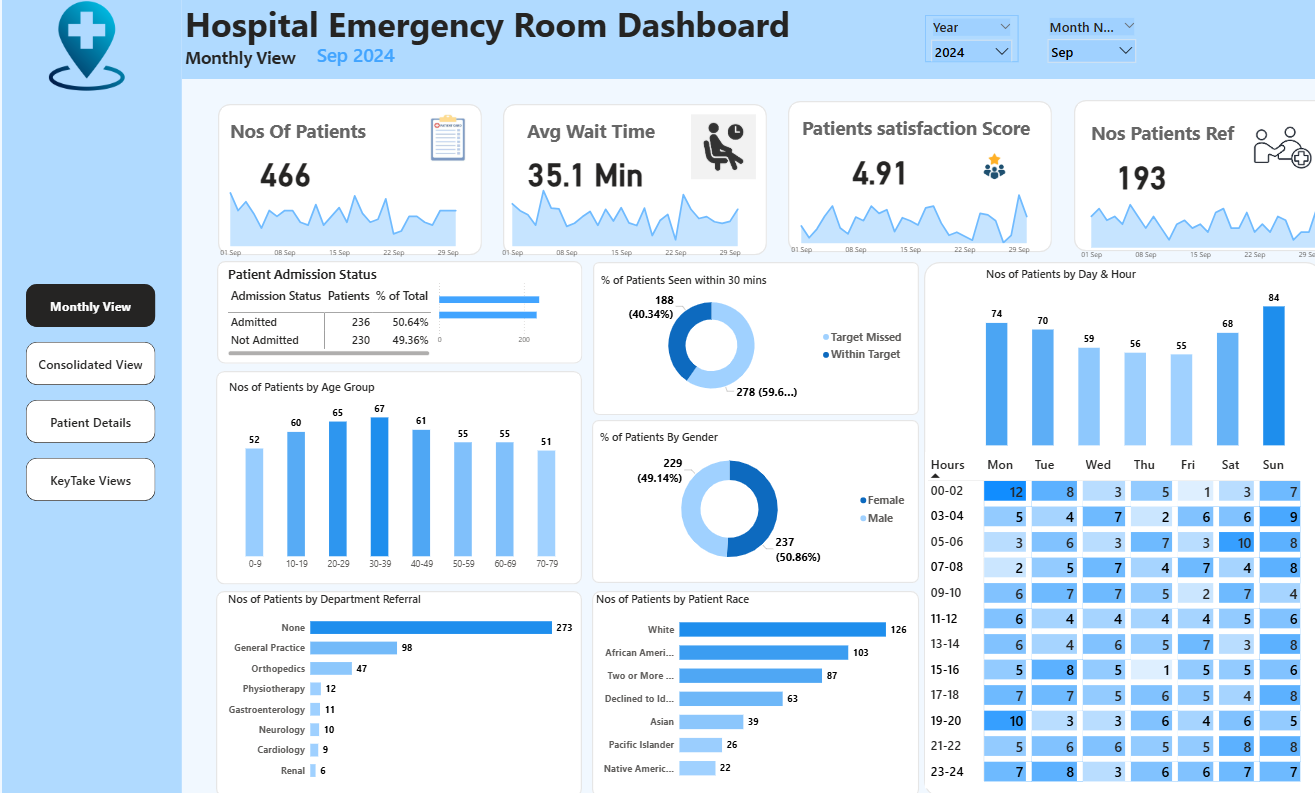

Layout of this report page (visuals, bound fields, positions):
{"tool":"powerbi","page":{"name":"Monthly View","canvas":[2300,1400],"ordinal":0},"visuals":[{"type":"shape","box":[10.8,0,310,1400.1],"z":0},{"type":"shape","box":[320.7,0,1979.3,139.7],"z":1000},{"type":"textbox","box":[320.6,0,1063.1,210.1],"z":2000},{"type":"slicer","fields":{"Values":["Date Table.Year"]},"box":[1600.9,29.4,161.2,81.5],"z":3000},{"type":"slicer","fields":{"Values":["Date Table.Month Name"]},"box":[1803.8,28.5,172,83.3],"z":4000},{"type":"card","fields":{"Values":["Min(Date Table.Month & Year)"]},"box":[438.3,56.1,364,83.3],"z":5000},{"type":"shape","box":[383.1,182,455,260.8],"z":6000},{"type":"card","fields":{"Values":["Measure Table.Nos of Patients"]},"box":[425.7,251.8,146.7,92.4],"z":7000},{"type":"textbox","box":[398.5,201.1,255.4,56.1],"z":8000},{"type":"areaChart","fields":{"Category":["Date Table.Date.Variation.Date Hierarchy.Day"],"Y":["Measure Table.Nos of Patients"]},"box":[380.4,311.6,434.6,144.9],"z":9000},{"type":"shape","box":[874.7,182,455,260.8],"z":10000},{"type":"card","fields":{"Values":["Measure Table.Avg Wait Time"]},"box":[910.9,251.7,211.9,92.4],"z":11000},{"type":"textbox","box":[911,201.1,255.4,56.1],"z":12000},{"type":"areaChart","fields":{"Category":["Date Table.Date.Variation.Date Hierarchy.Day"],"Y":["Avg(Hospital ER_Data.Patient Waittime)"]},"box":[867.5,311.5,434.6,144.9],"z":13000},{"type":"shape","box":[1366.4,178.4,455,260.8],"z":14000},{"type":"card","fields":{"Values":["Measure Table.Patient Satisfaction Score"]},"box":[1452.5,248.2,146.7,92.4],"z":15000},{"type":"textbox","box":[1384.5,196.6,415.5,56.9],"z":16000},{"type":"areaChart","fields":{"Category":["Date Table.Date.Variation.Date Hierarchy.Day"],"Y":["Avg(Hospital ER_Data.Patient Satisfaction Score)"]},"box":[1365.5,306.1,434.6,144.9],"z":17000},{"type":"shape","box":[1858,175.7,442,260.8],"z":18000},{"type":"textbox","box":[1883.5,204.6,300.6,56.1],"z":19000},{"type":"areaChart","fields":{"Category":["Date Table.Date.Variation.Date Hierarchy.Day"],"Y":["Measure Table.Nos Of patient Ref"]},"box":[1865.4,315.2,434.6,144.9],"z":20000},{"type":"card","fields":{"Values":["Measure Table.Nos Of patient Ref"]},"box":[1901.6,256.4,145.7,92.2],"z":21000},{"type":"shape","box":[380.2,453.9,630,177],"z":22000},{"type":"pivotTable","title":"Patient Admission Status","fields":{"Rows":["Hospital ER_Data.Admission Status"],"Values":["Measure Table.Nos of Patients1","Measure Table.Nos of Patients"]},"box":[394.8,462.1,360.3,160.3],"z":23000},{"type":"barChart","fields":{"Category":["Hospital ER_Data.Admission Status"],"Y":["Measure Table.Nos of Patients"]},"box":[755.2,477.6,243.1,129.3],"z":24000},{"type":"shape","box":[379.3,643.1,631,368],"z":25000},{"type":"clusteredColumnChart","fields":{"Category":["Hospital ER_Data.Age Group"],"Y":["Measure Table.Nos of Patients"]},"box":[396.6,656.9,603.4,339.7],"z":26000},{"type":"shape","box":[379.3,1022.4,631,355.2],"z":27000},{"type":"clusteredBarChart","fields":{"Category":["Hospital ER_Data.Department Referral"],"Y":["Measure Table.Nos of Patients"]},"box":[394.5,1021.6,604.8,340.5],"z":28000},{"type":"shape","box":[1030,456,562,264],"z":29000},{"type":"donutChart","title":"% of Patients Seen within 30 mins","fields":{"Category":["Hospital ER_Data.Wait Time"],"Y":["Measure Table.Nos of Patients"]},"box":[1038,472,538,228],"z":30000},{"type":"shape","box":[1027.3,726.9,563.8,281],"z":31000},{"type":"donutChart","title":"% of Patients By Gender","fields":{"Category":["Hospital ER_Data.Patient Gender"],"Y":["Measure Table.Nos of Patients"]},"box":[1036.8,742.7,543.7,250.4],"z":32000},{"type":"shape","box":[1028,1022,564,356],"z":33000},{"type":"clusteredBarChart","fields":{"Category":["Hospital ER_Data.Patient Race"],"Y":["Measure Table.Nos of Patients"]},"box":[1030,1022,546,340],"z":34000},{"type":"shape","box":[1600,456,686,922],"z":35000},{"type":"pivotTable","fields":{"Columns":["Date Table.Day Name"],"Rows":["Hospital ER_Data.WaitTime Interval"],"Values":["Measure Table.Nos of Patients"]},"box":[1600.9,782.4,675.5,579.5],"z":36000},{"type":"columnChart","title":"Nos of Patients by Day & Hour","fields":{"Category":["Date Table.Day Name"],"Y":["Measure Table.Nos of Patients"]},"box":[1701.2,462.6,527.9,315.2],"z":37000},{"type":"image","box":[37.9,5.2,236.2,155.2],"z":37001},{"type":"image","box":[720.7,196.6,117.2,91.4],"z":37002},{"type":"image","box":[1198.3,184.5,112.1,143.1],"z":37003},{"type":"image","box":[1681,239.7,81,101.7],"z":37004},{"type":"image","box":[2151.7,187.9,134.5,139.7],"z":37005},{"type":"pageNavigator","box":[51.9,492.3,223.1,375],"z":37006}]}

Visuals, with their boxes in screenshot pixels (x1, y1, x2, y2), scaled from the page's 2300x1400 canvas onto the 1315x793 screenshot:
shape: (x1=6, y1=0, x2=183, y2=792)
shape: (x1=183, y1=0, x2=1314, y2=79)
textbox: (x1=183, y1=0, x2=791, y2=119)
slicer - Date Table.Year: (x1=915, y1=17, x2=1007, y2=63)
slicer - Date Table.Month Name: (x1=1031, y1=16, x2=1130, y2=63)
card - Min(Date Table.Month & Year): (x1=251, y1=32, x2=459, y2=79)
shape: (x1=219, y1=103, x2=479, y2=251)
card - Measure Table.Nos of Patients: (x1=243, y1=143, x2=327, y2=195)
textbox: (x1=228, y1=114, x2=374, y2=146)
areaChart - Date Table.Date.Variation.Date Hierarchy.Day x Measure Table.Nos of Patients: (x1=217, y1=176, x2=466, y2=259)
shape: (x1=500, y1=103, x2=760, y2=251)
card - Measure Table.Avg Wait Time: (x1=521, y1=143, x2=642, y2=195)
textbox: (x1=521, y1=114, x2=667, y2=146)
areaChart - Date Table.Date.Variation.Date Hierarchy.Day x Avg(Hospital ER_Data.Patient Waittime): (x1=496, y1=176, x2=744, y2=259)
shape: (x1=781, y1=101, x2=1041, y2=249)
card - Measure Table.Patient Satisfaction Score: (x1=830, y1=141, x2=914, y2=193)
textbox: (x1=792, y1=111, x2=1029, y2=144)
areaChart - Date Table.Date.Variation.Date Hierarchy.Day x Avg(Hospital ER_Data.Patient Satisfaction Score): (x1=781, y1=173, x2=1029, y2=255)
shape: (x1=1062, y1=100, x2=1314, y2=247)
textbox: (x1=1077, y1=116, x2=1249, y2=148)
areaChart - Date Table.Date.Variation.Date Hierarchy.Day x Measure Table.Nos Of patient Ref: (x1=1067, y1=179, x2=1314, y2=261)
card - Measure Table.Nos Of patient Ref: (x1=1087, y1=145, x2=1171, y2=197)
shape: (x1=217, y1=257, x2=578, y2=357)
"Patient Admission Status" pivotTable: (x1=226, y1=262, x2=432, y2=353)
barChart - Hospital ER_Data.Admission Status x Measure Table.Nos of Patients: (x1=432, y1=271, x2=571, y2=344)
shape: (x1=217, y1=364, x2=578, y2=573)
clusteredColumnChart - Hospital ER_Data.Age Group x Measure Table.Nos of Patients: (x1=227, y1=372, x2=572, y2=565)
shape: (x1=217, y1=579, x2=578, y2=780)
clusteredBarChart - Hospital ER_Data.Department Referral x Measure Table.Nos of Patients: (x1=226, y1=579, x2=571, y2=772)
shape: (x1=589, y1=258, x2=910, y2=408)
"% of Patients Seen within 30 mins" donutChart: (x1=593, y1=267, x2=901, y2=396)
shape: (x1=587, y1=412, x2=910, y2=571)
"% of Patients By Gender" donutChart: (x1=593, y1=421, x2=904, y2=563)
shape: (x1=588, y1=579, x2=910, y2=781)
clusteredBarChart - Hospital ER_Data.Patient Race x Measure Table.Nos of Patients: (x1=589, y1=579, x2=901, y2=771)
shape: (x1=915, y1=258, x2=1307, y2=781)
pivotTable - Date Table.Day Name x Hospital ER_Data.WaitTime Interval: (x1=915, y1=443, x2=1302, y2=771)
"Nos of Patients by Day & Hour" columnChart: (x1=973, y1=262, x2=1274, y2=441)
image: (x1=22, y1=3, x2=157, y2=91)
image: (x1=412, y1=111, x2=479, y2=163)
image: (x1=685, y1=105, x2=749, y2=186)
image: (x1=961, y1=136, x2=1007, y2=193)
image: (x1=1230, y1=106, x2=1307, y2=186)
pageNavigator: (x1=30, y1=279, x2=157, y2=491)
